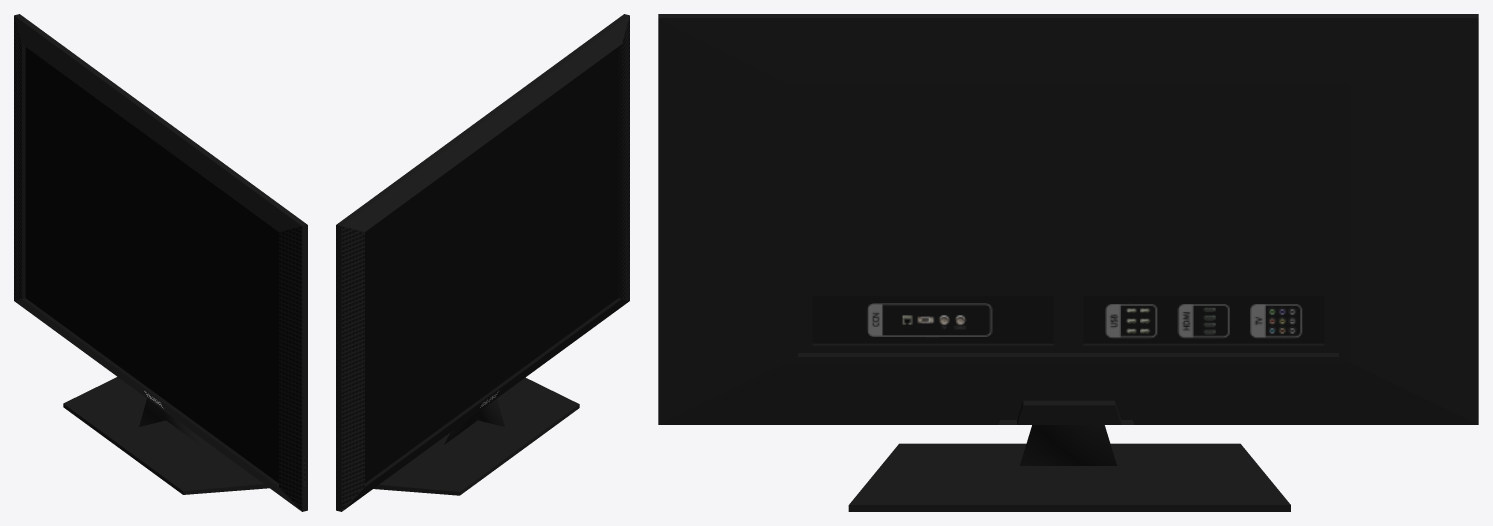
3 renders of one model, left to right at view 1: azimuth 30°, elevation 25°; view 2: azimuth 150°, elevation 25°; view 3: azimuth 270°, elevation 25°, orthographic. The views are drawn at different scales.
Visible parts, largest first — view 1: Cube; view 2: Cube; view 3: Cube.
Boxes of the visible parts, x1=… form: Cube: x1=14, y1=14, x2=307, y2=511; Cube: x1=336, y1=14, x2=629, y2=511; Cube: x1=658, y1=14, x2=1478, y2=511.
Bounding box in the file's own units: 27.34 × 94.23 × 152.
